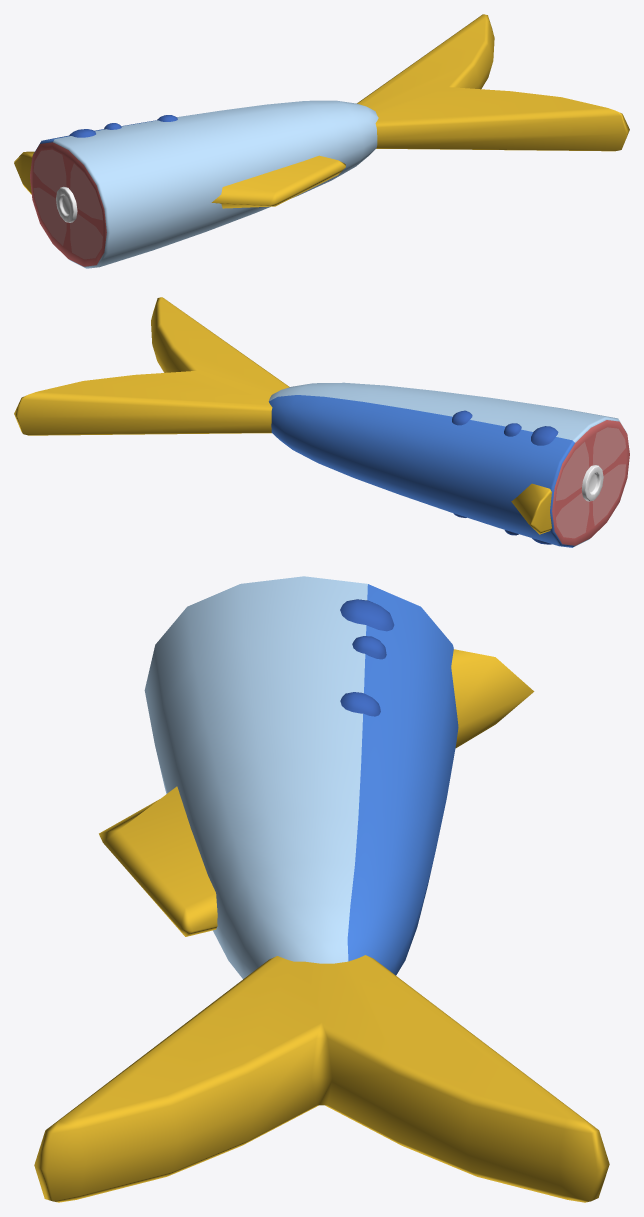
File: Sardine_Half_2.fbx
3 renders of one model, top to bottom at view 1: azimuth 30°, elevation 25°; view 2: azimuth 150°, elevation 25°; view 3: azimuth 270°, elevation 25°, orthographic. The views are drawn at different scales.
Visible parts, largest first — view 1: Sardine_Half_2; view 2: Sardine_Half_2; view 3: Sardine_Half_2.
Part boxes in pixels (<box>): Sardine_Half_2: <box>14,14,629,268</box>; Sardine_Half_2: <box>14,297,629,547</box>; Sardine_Half_2: <box>34,576,609,1202</box>.
Bounding box in the file's own units: 17.71 × 3.85 × 8.81.
